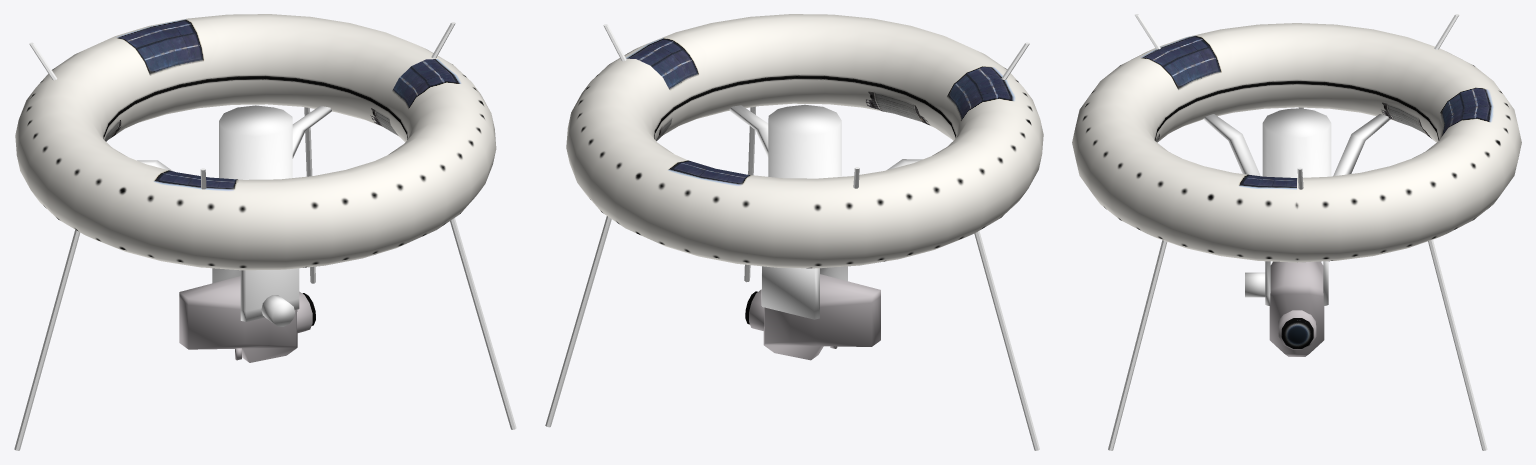
Rendered from uav.glb.
3 views of the same model, side by side, from view 1: azimuth 30°, elevation 25°; view 2: azimuth 150°, elevation 25°; view 3: azimuth 270°, elevation 25° (orthographic). The views are drawn at different scales.
Parts seen in each view (by area): view 1: Body, X, Frame, Y, Legs, Attenna; view 2: Body, X, Frame, Legs, Y, Attenna; view 3: Body, Frame, X, Legs, Y, Attenna.
Part boxes in pixels (x1,y1,x2,y2): Body: [15, 14, 496, 270]; X: [179, 276, 315, 362]; Frame: [137, 105, 331, 179]; Y: [212, 268, 299, 326]; Legs: [14, 107, 516, 450]; Attenna: [29, 22, 455, 189]; Body: [566, 14, 1043, 268]; X: [745, 274, 880, 360]; Frame: [729, 104, 922, 178]; Legs: [545, 106, 1039, 450]; Y: [761, 266, 847, 319]; Attenna: [603, 24, 1029, 188]; Body: [1072, 23, 1521, 262]; Frame: [1203, 108, 1390, 177]; X: [1269, 261, 1324, 356]; Legs: [1108, 107, 1487, 450]; Y: [1245, 261, 1328, 305]; Attenna: [1134, 14, 1458, 189].
Bounding box in the file's own units: 2.56 × 1.76 × 2.39.
3 materials, 2 textured.
